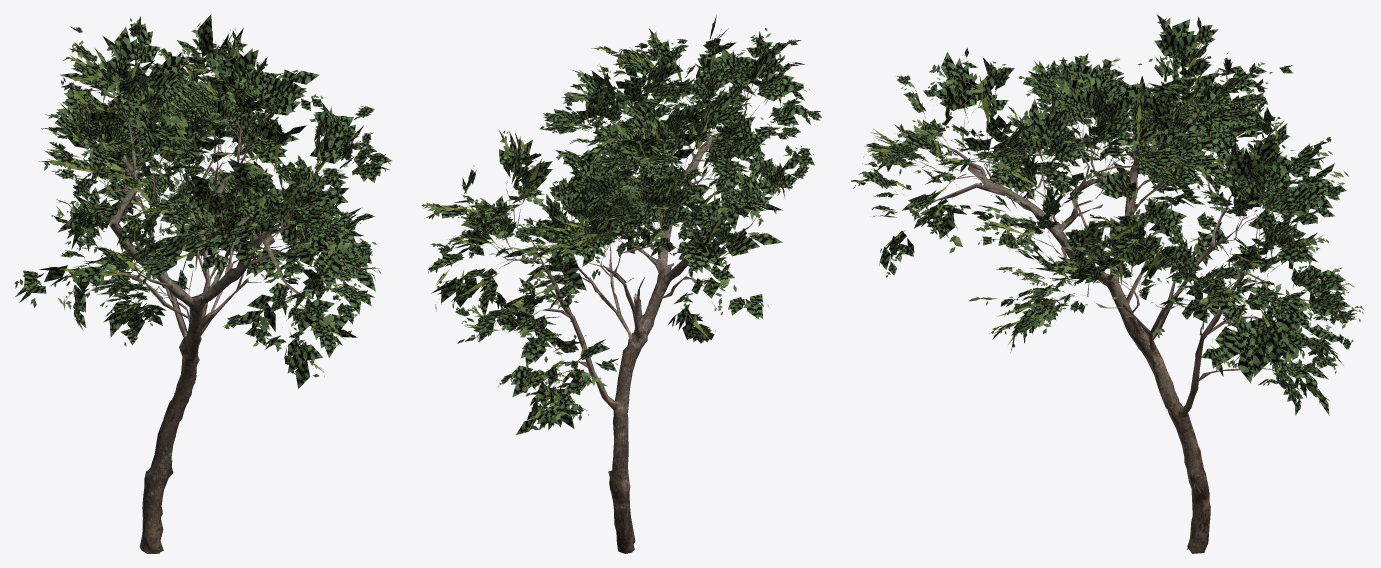
File: tree_small_02-near.glb
3 renders of one model, left to right at view 1: azimuth 30°, elevation 25°; view 2: azimuth 150°, elevation 25°; view 3: azimuth 270°, elevation 25°, orthographic. The views are drawn at different scales.
Parts seen in each view (by area): view 1: tree_small_02_near; view 2: tree_small_02_near; view 3: tree_small_02_near.
Part boxes in pixels (bbox=[...]): tree_small_02_near: bbox=[14, 14, 391, 553]; tree_small_02_near: bbox=[421, 15, 821, 553]; tree_small_02_near: bbox=[851, 14, 1363, 553].
Bounding box in the file's own units: 0.6496 × 1 × 0.9392.
Materials: 3 (3 with a texture image).
